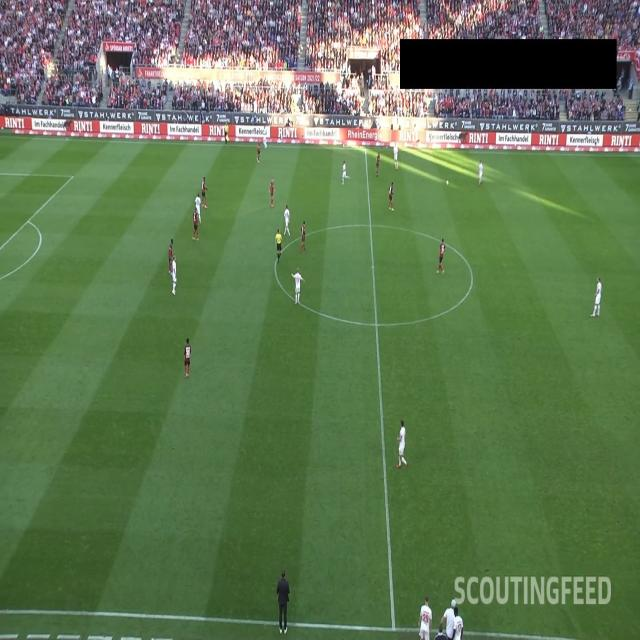ball: (446, 180, 449, 185)
